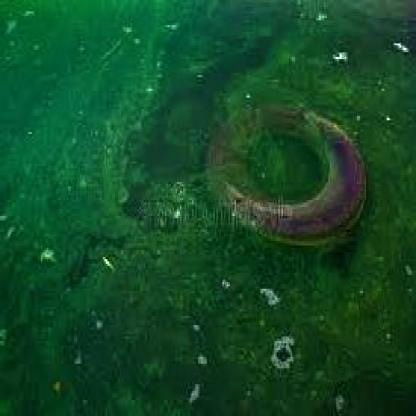tire: (186, 96, 386, 264)
